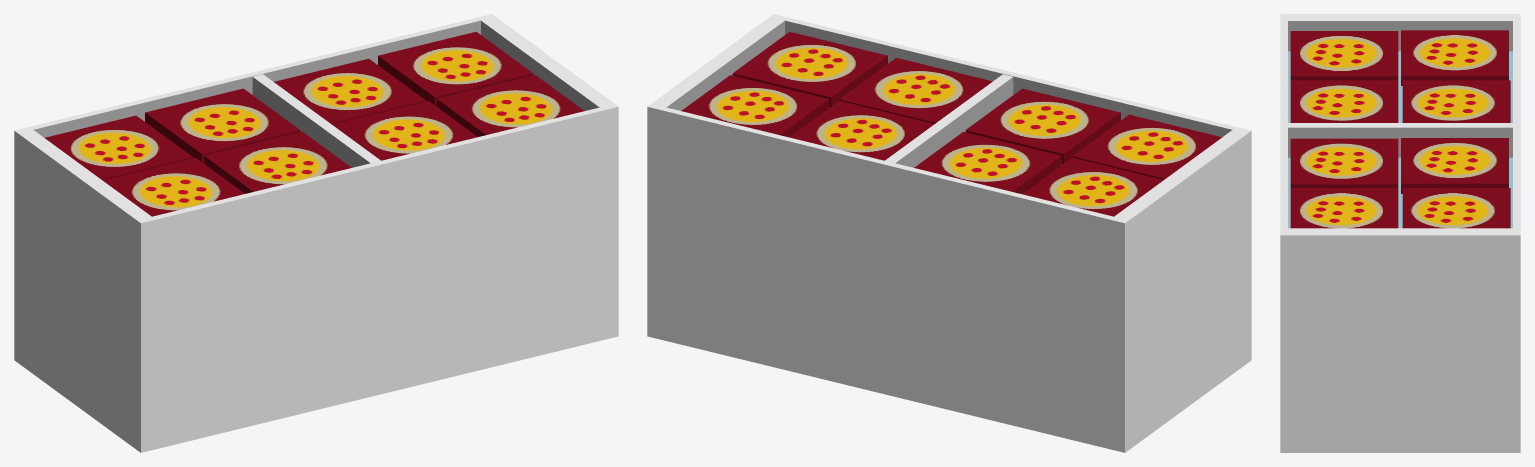
File: red_pizza_box.gltf
The picture shows the model from 3 angles, left to right: view 1: azimuth 30°, elevation 25°; view 2: azimuth 150°, elevation 25°; view 3: azimuth 270°, elevation 25°; orthographic projection. The views are drawn at different scales.
Visible parts, largest first — view 1: Cube.003, Cube.008, Cube.005, Cube.004, Cube.002; view 2: Cube.003, Cube.008, Cube.005, Cube.004, Cube.002; view 3: Cube.003, Cube.005, Cube.008, Cube.002, Cube.004.
Part boxes in pixels (x1=…): Cube.003: x1=14, y1=14, x2=618, y2=452; Cube.008: x1=332, y1=31, x2=584, y2=160; Cube.005: x1=103, y1=88, x2=351, y2=216; Cube.004: x1=274, y1=58, x2=425, y2=124; Cube.002: x1=45, y1=115, x2=192, y2=180; Cube.003: x1=647, y1=14, x2=1251, y2=452; Cube.008: x1=681, y1=31, x2=992, y2=137; Cube.005: x1=914, y1=88, x2=1221, y2=193; Cube.004: x1=789, y1=101, x2=934, y2=160; Cube.002: x1=1022, y1=157, x2=1163, y2=216; Cube.003: x1=1280, y1=14, x2=1520, y2=452; Cube.005: x1=1290, y1=31, x2=1510, y2=122; Cube.008: x1=1290, y1=138, x2=1510, y2=228; Cube.002: x1=1401, y1=30, x2=1508, y2=85; Cube.004: x1=1401, y1=138, x2=1508, y2=193.
Bounding box in the file's own units: 9.22 × 4.23 × 4.23.
2 materials, 2 textured.
